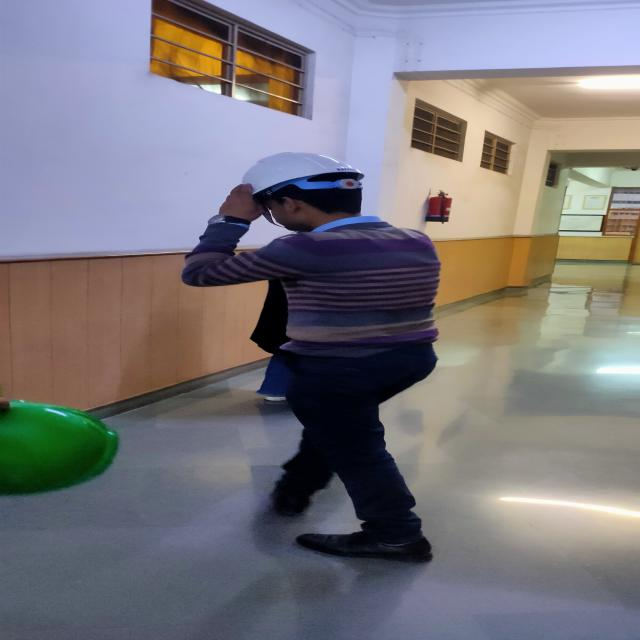no jacket: (185, 153, 450, 566)
